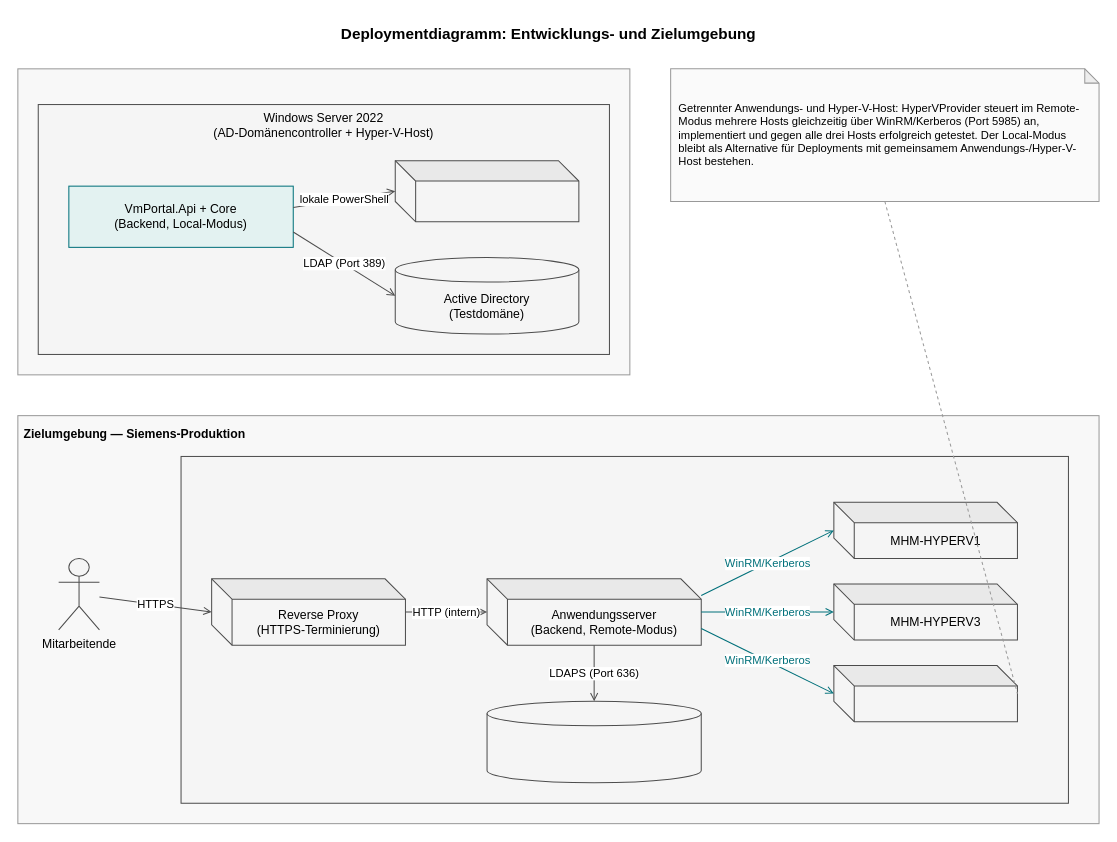
Image size: 1117x842. Some labels were removed from this diagram. Each missing label, with the box of its shape:
Domain Controller (archiv.mhm.siemens.com): (486, 700, 701, 783)
Hyper-V-Host (Test-VMs): (394, 160, 579, 222)
MHM-HYPERV4: (833, 665, 1017, 722)
Siemens-Firmennetz: (180, 455, 1068, 803)
Testumgebung (aktueller Ist-Zustand): (17, 68, 630, 375)
